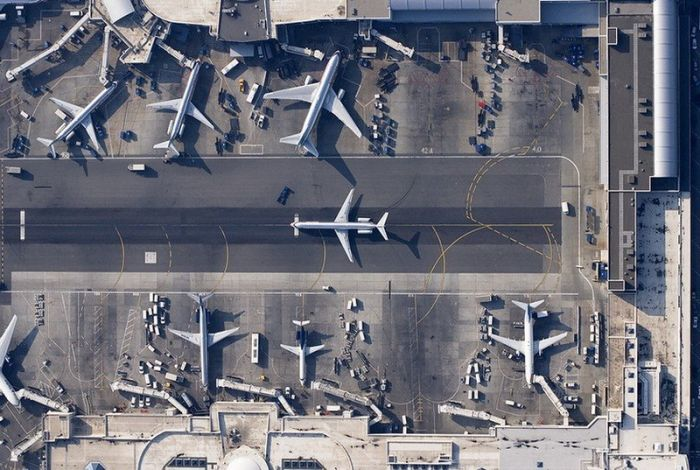aircraft: (261, 47, 365, 159), (146, 55, 215, 164), (291, 188, 391, 262), (168, 290, 241, 391), (488, 294, 568, 386), (34, 80, 120, 164), (279, 318, 328, 388)
